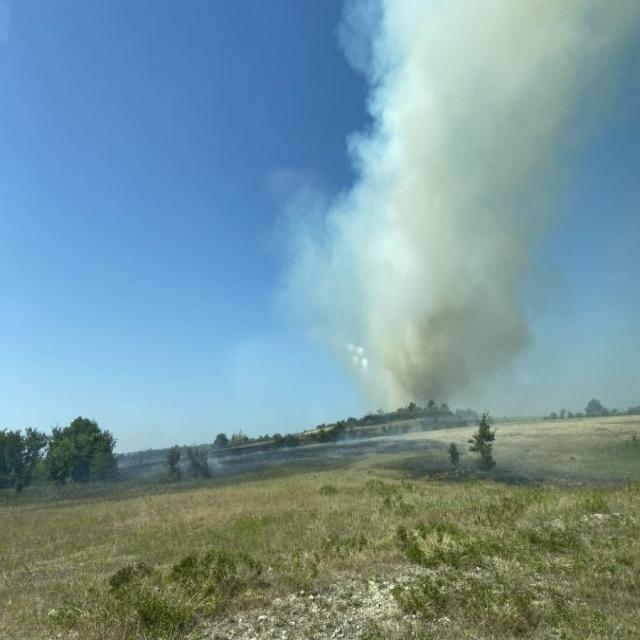Smoke: (308, 0, 610, 442)
